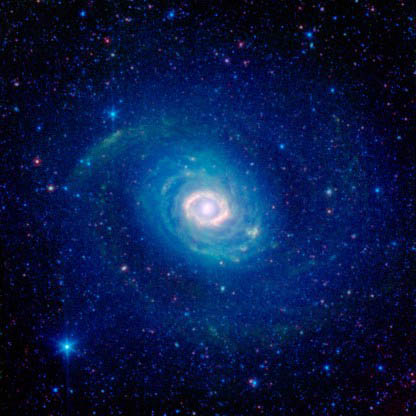Messier 94: (35, 41, 398, 360)
